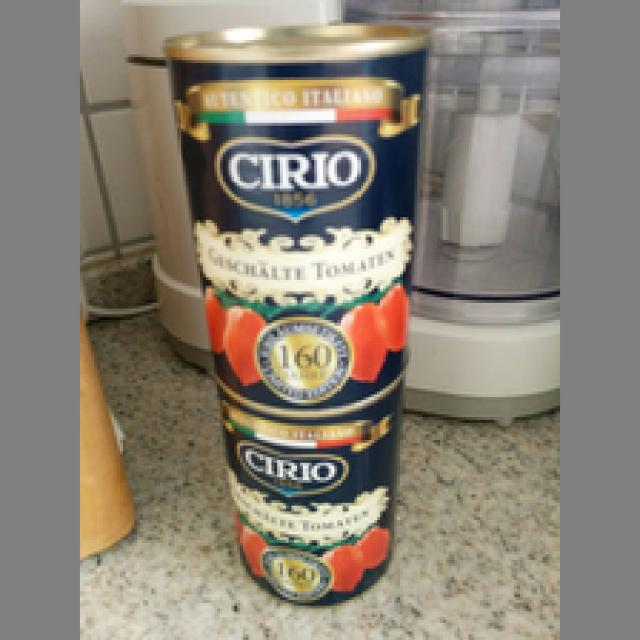groceries: (160, 20, 426, 414), (211, 377, 406, 606)
